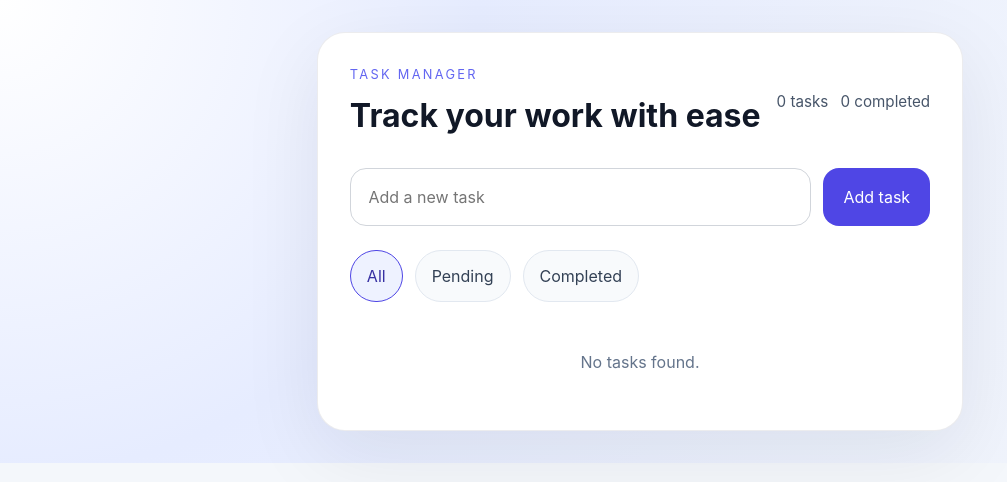
Test: Task Manager App › adds and deletes a task
Type "Write unit tests" into the field with placeholder "Add a new task" at (581, 197), box [350, 168, 812, 226]
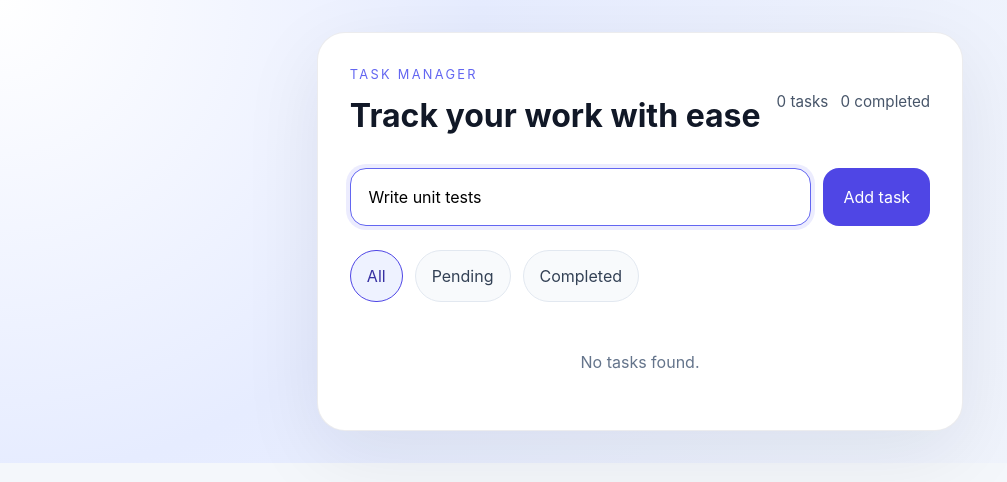
Click the button "Add task" at (877, 197), box [824, 168, 930, 226]
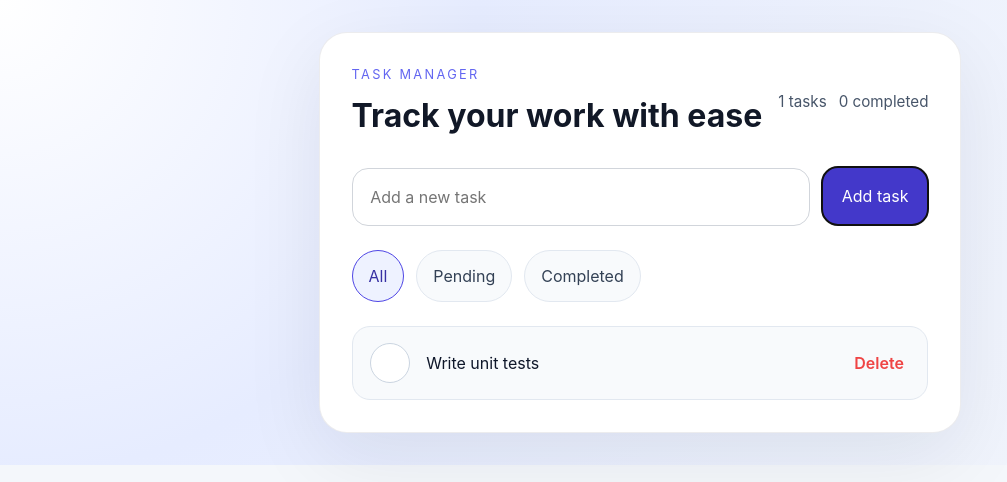
Now the text "Write unit tests" is shown, box [426, 353, 539, 373]
Now the text "1 tasks" is shown, box [778, 91, 827, 114]
Click the button with aria-label "delete task write unit tests" at (879, 363), box [848, 350, 910, 376]
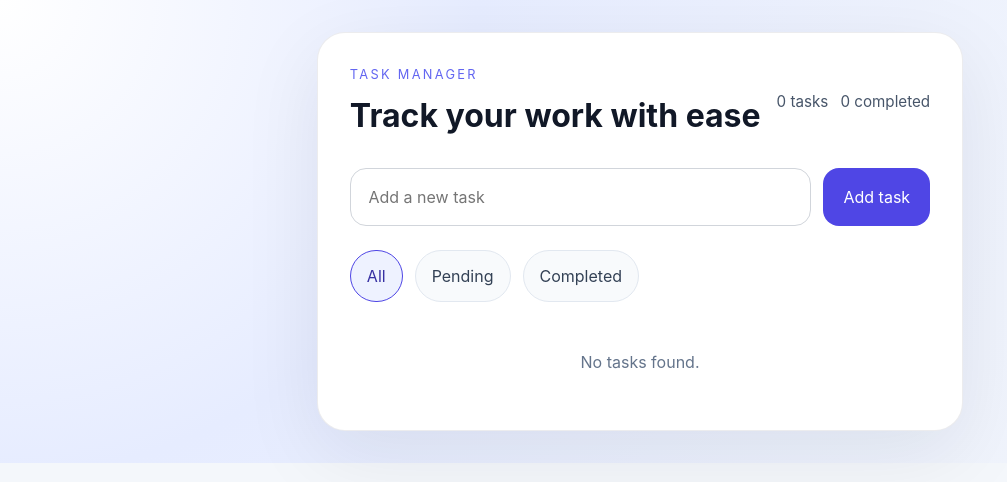
Now the text "Write unit tests" is gone
Now the text "0 tasks" is shown, box [777, 91, 828, 114]
